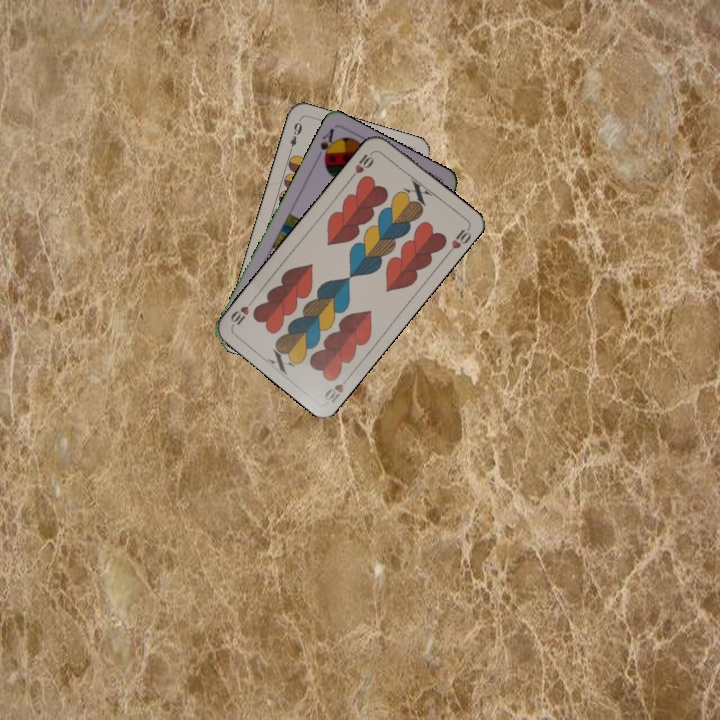E9: (285, 118, 305, 156)
H10: (320, 371, 353, 406), (347, 147, 377, 181)
SA: (316, 124, 339, 166)
